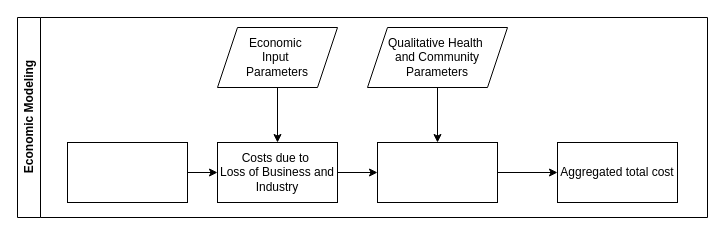
Image size: 725x235. Some labels were removed from this diagram. Each missing label, with the centre of its shape:
"Costs due to Health and Community Impact" belongs at [437,172].
"Direct Impact Costs" belongs at [127,172].
